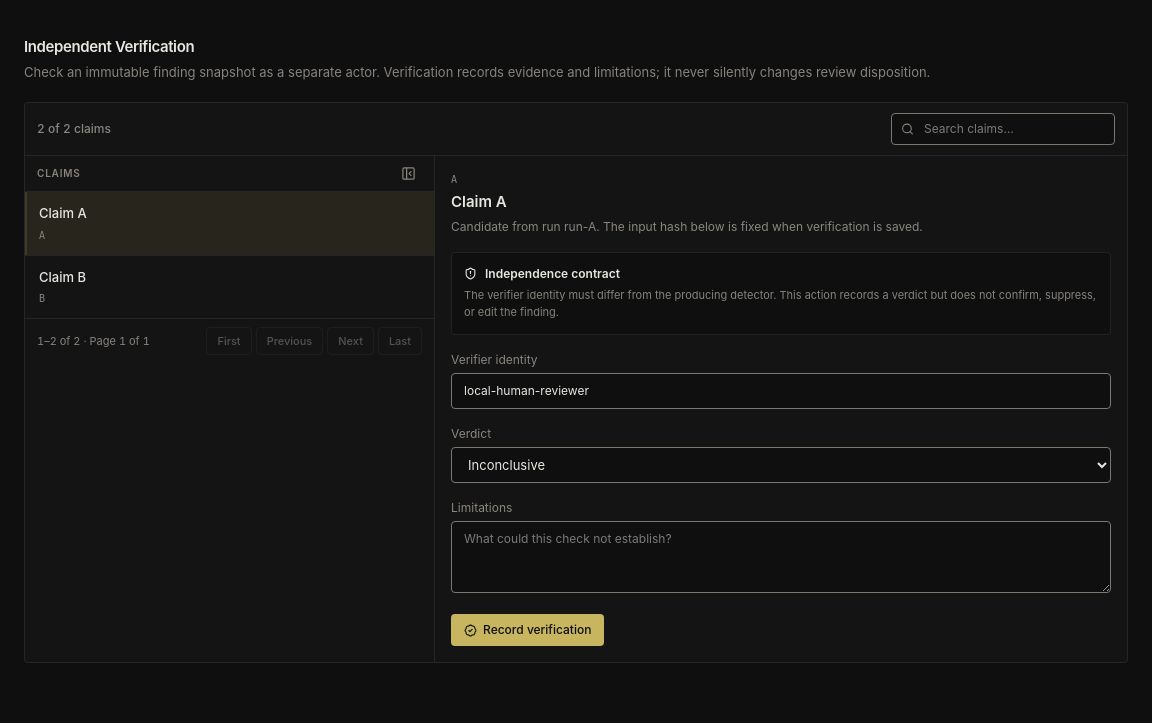
batched save completions retain receipts for each claim
Check: the heading "Claim A" is shown, box [451,192,507,211]
What coordinates should you click on to do the following:
click the button "Record verification"
I would click on:
 (528, 630)
Its box is [451,614,604,646].
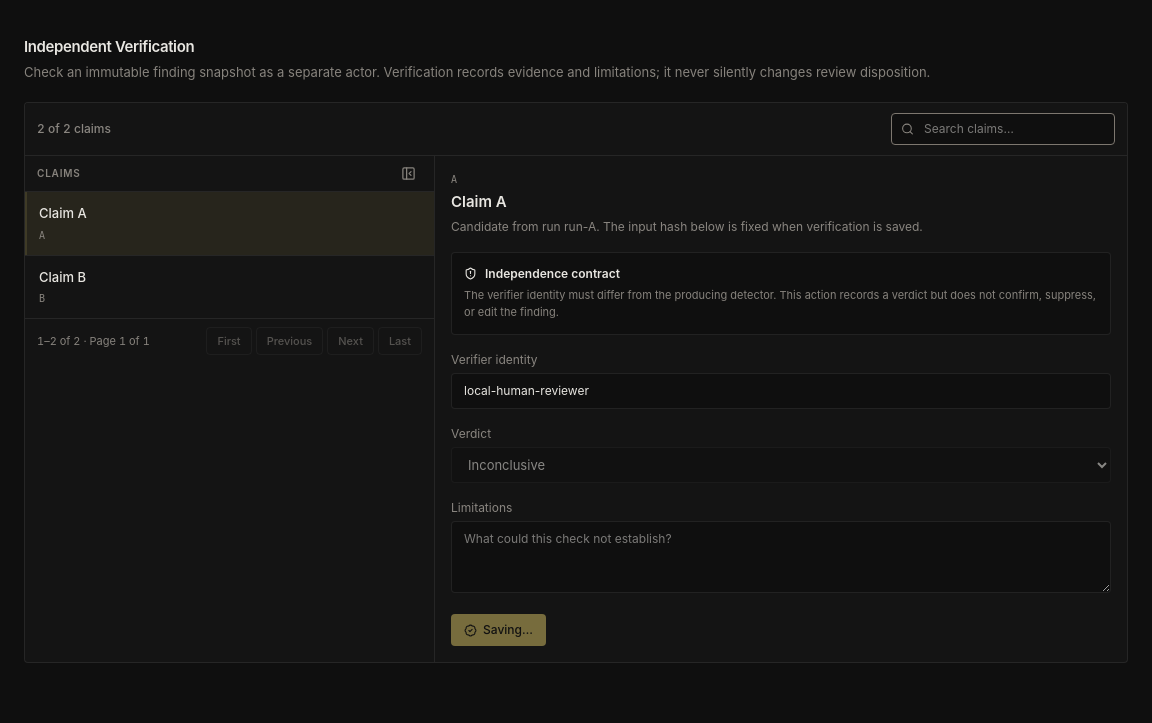
What coordinates should you click on to do the following:
click the button named "Claim BB"
I would click on:
 (63, 276)
Its box is [25,256,434,318].
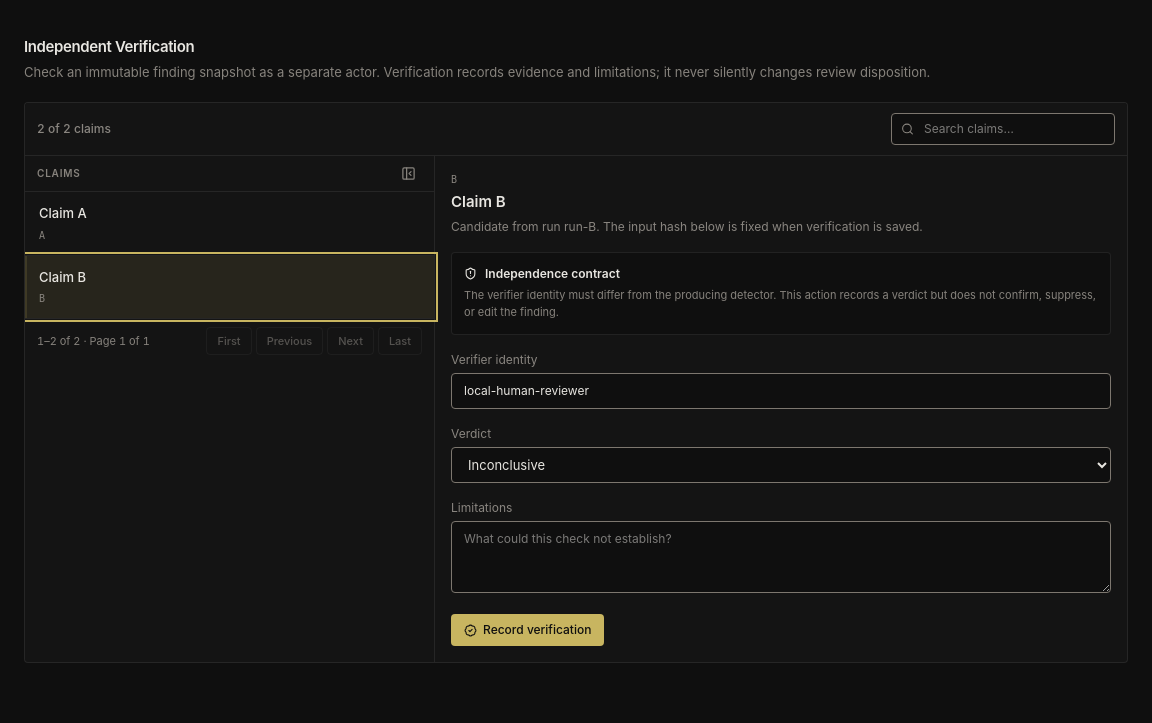
What coordinates should you click on to do the following:
click the button "Record verification"
I would click on:
 (528, 630)
Its box is [451,614,604,646].
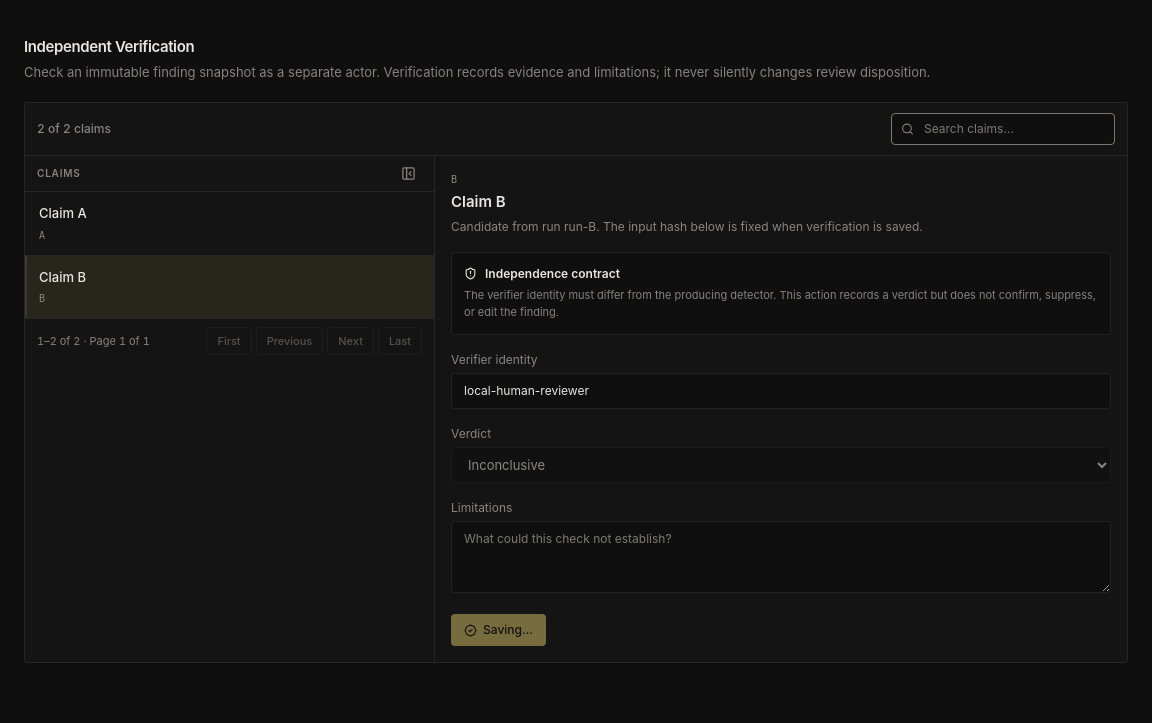
What coordinates should you click on to do the following:
click the button named "Claim AA"
I would click on:
 (63, 213)
Its box is [25,192,434,254].
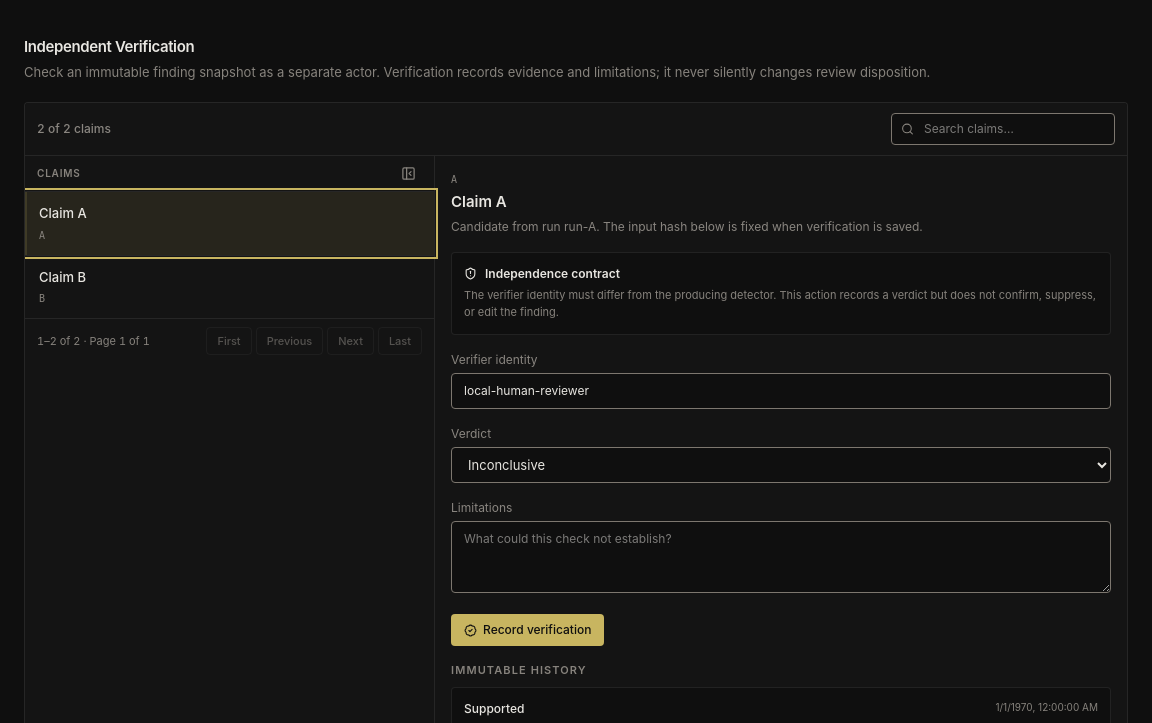
What coordinates should you click on to do the following:
click the button named "Claim BB"
I would click on:
 (63, 276)
Its box is [25,256,434,318].
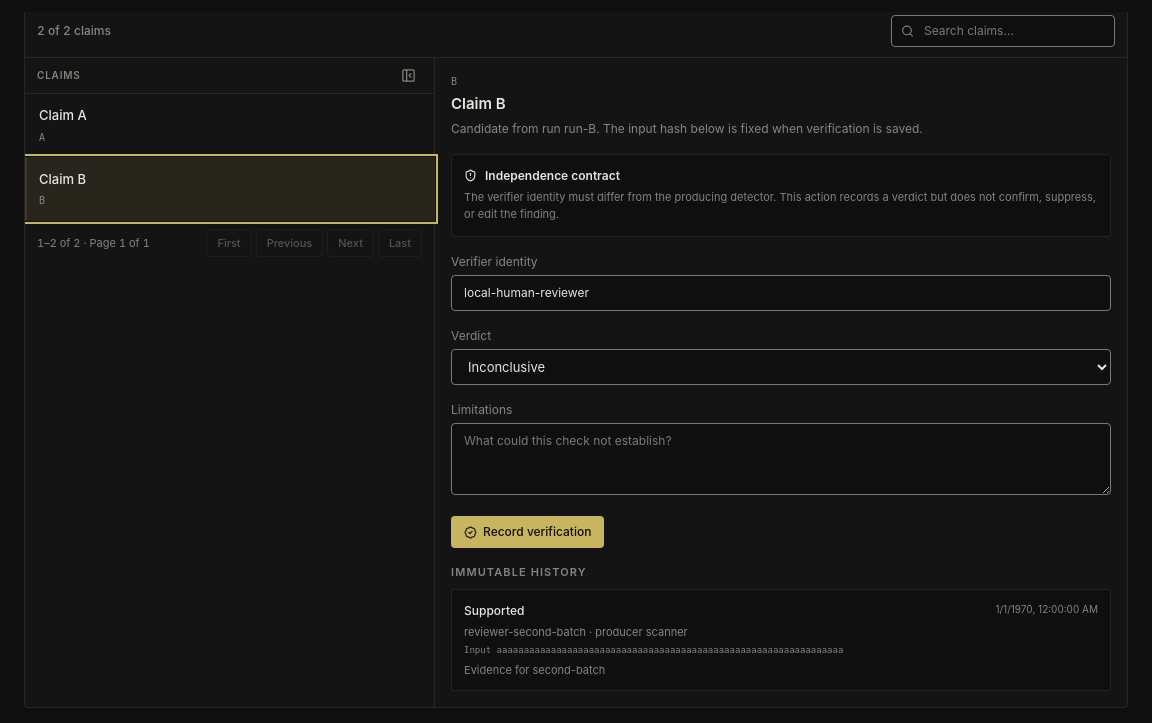
Check: the text "Evidence for second-batch" is shown, box [464,663,605,677]
